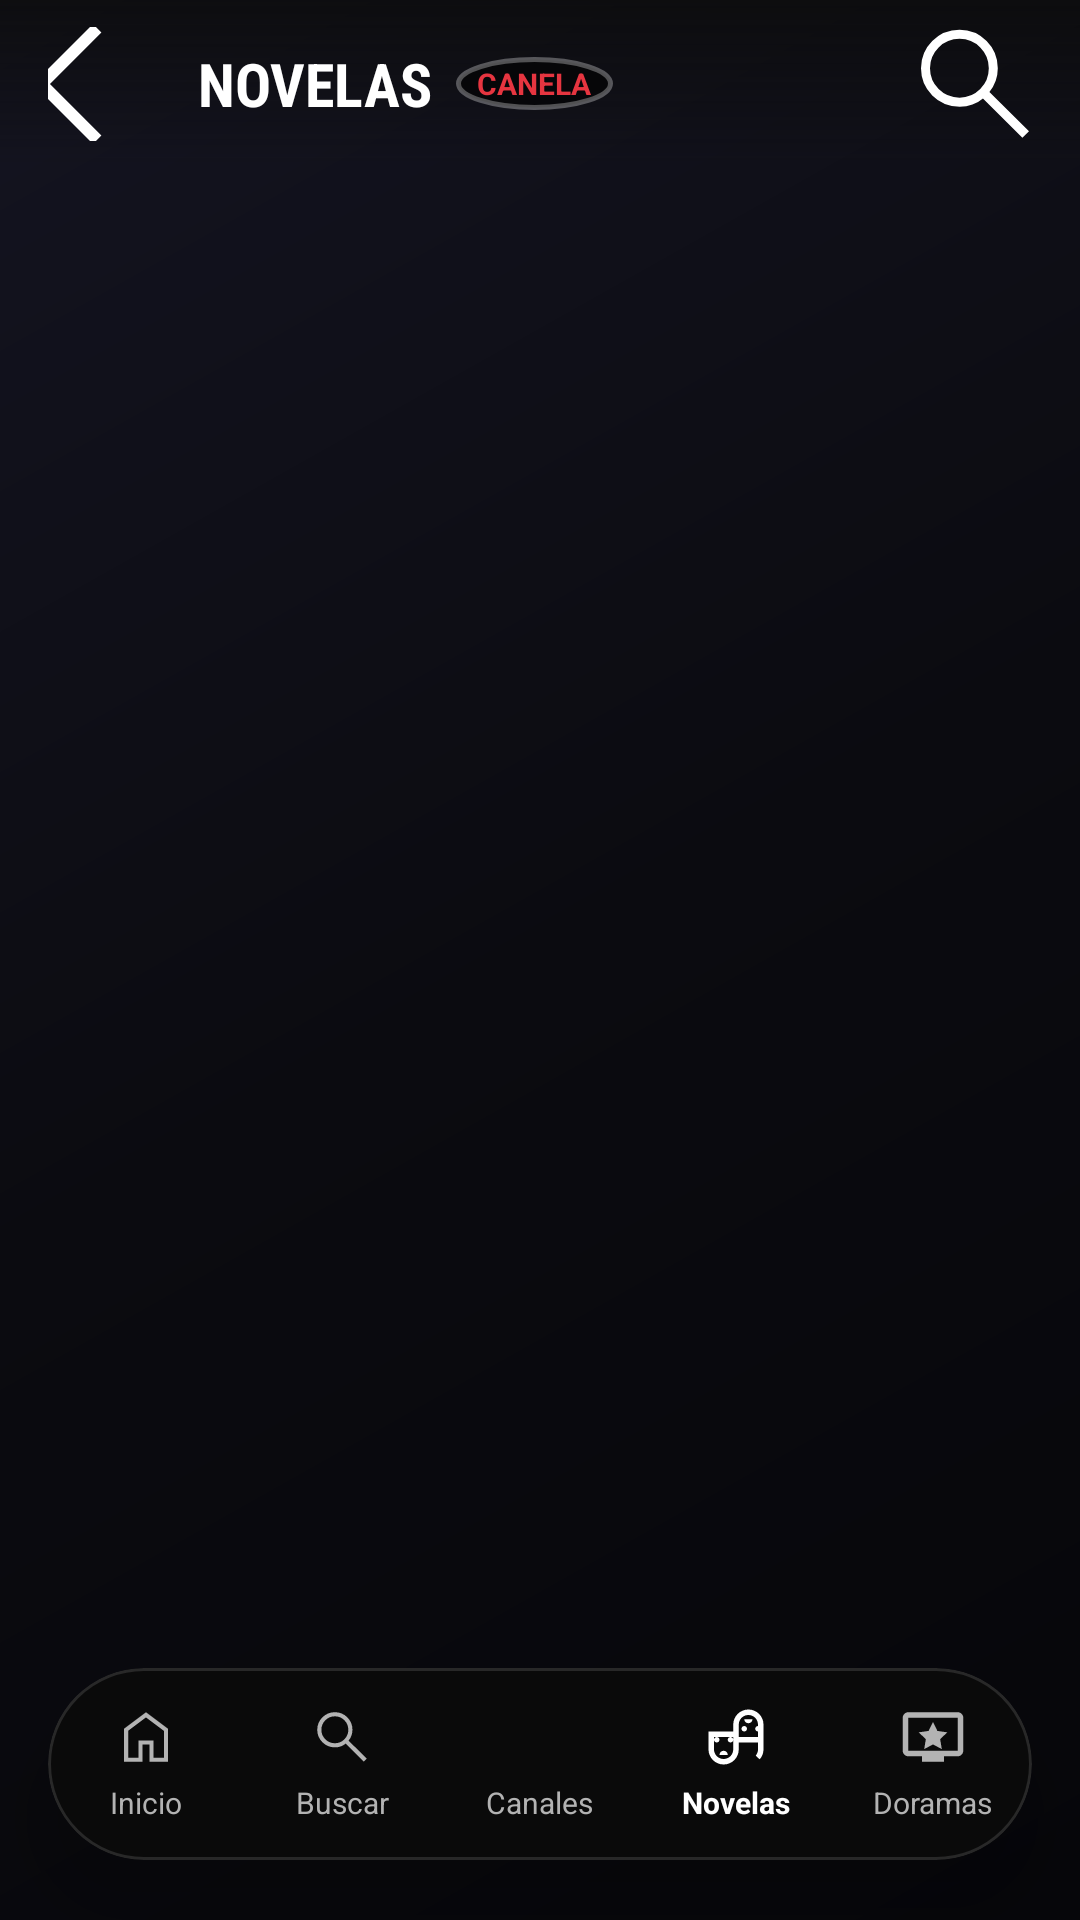

Screen size 1080w x 1920h. Icon name, then its box in pixels as [x1=x1, y1=y1, x2=x2, y2=y2]:
Volver: [x1=48, y1=27, x2=102, y2=141]
